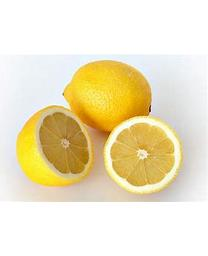lemon: (15, 104, 96, 190), (62, 59, 153, 135), (104, 117, 183, 197)
